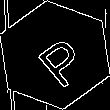P_NW: (23, 23, 87, 87)
